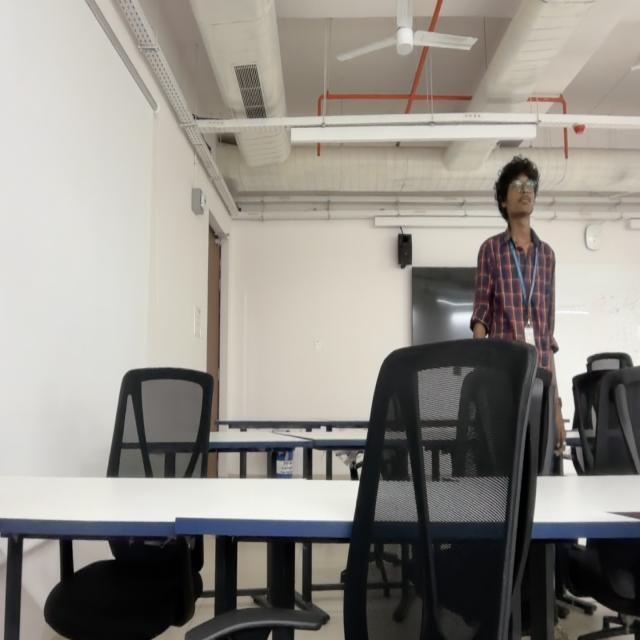darshan: (494, 153, 542, 225)
